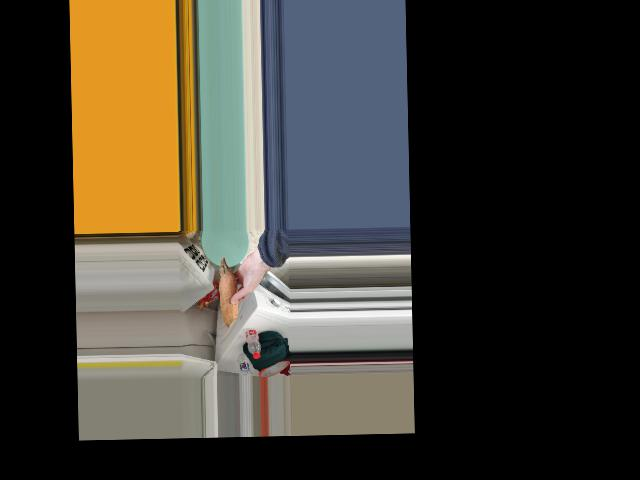sweet_potato: (219, 258, 243, 318)
